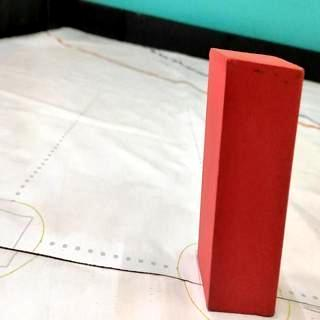redbox: (194, 47, 306, 318)
